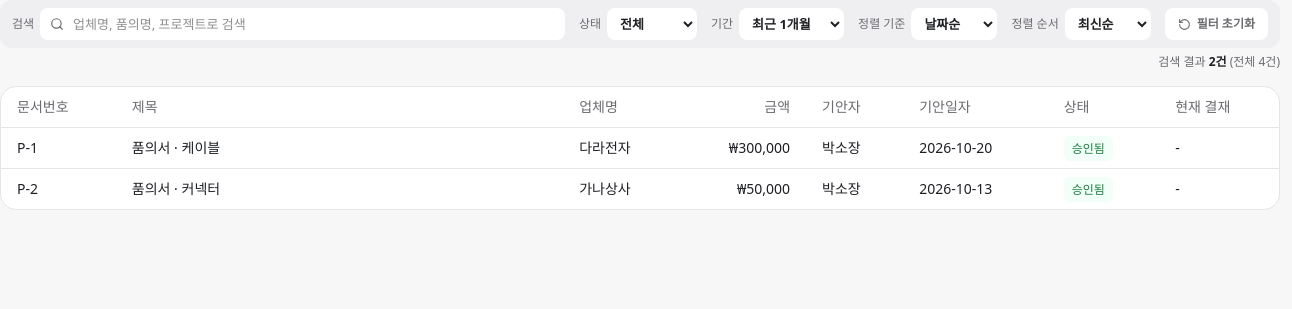
Scenario: 품의서 목록 검색·정렬 › 업체명 또는 품의명으로 검색하고, 맞는 게 없으면 안내한다
The width and height of the screenshot is (1292, 309).
Expected: the table is shown, [1,87,1279,209]
Select "최근 12개월" in the dropdown named "조회 기간" at (792, 24), box [739,8,844,40]
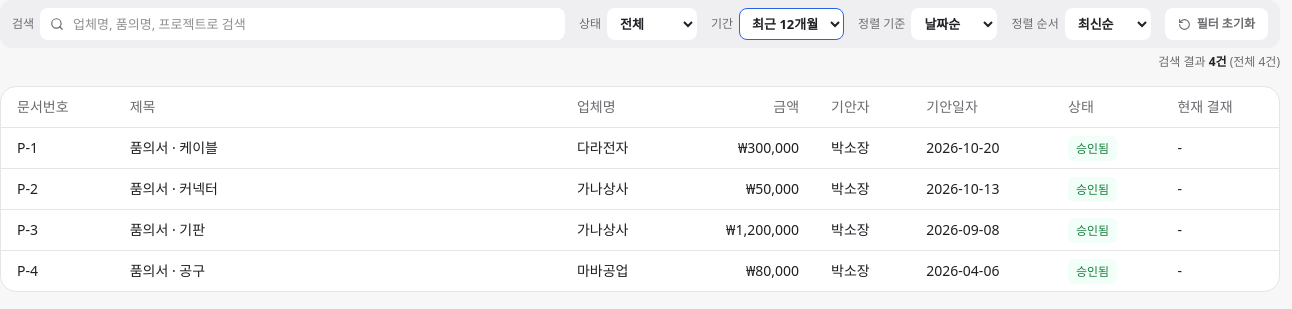
Type "가나" into the search field labelled "검색" at (302, 24), box [40,8,565,40]
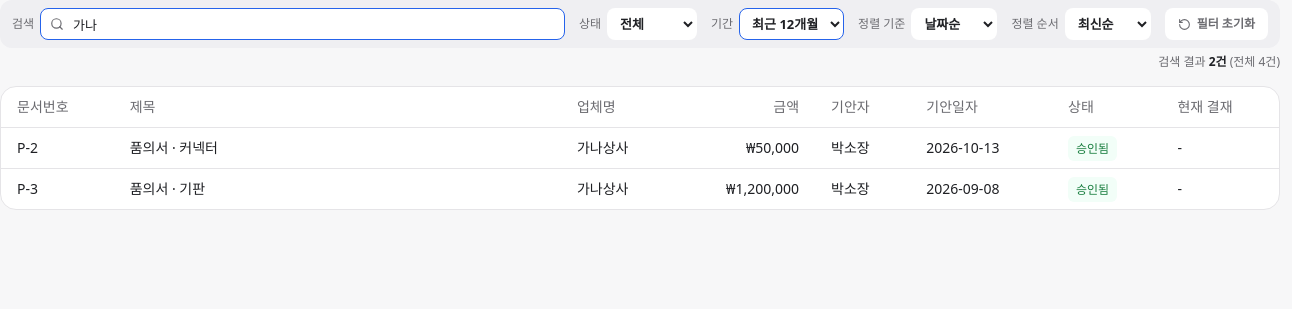
Replace the text in the search field labelled "검색" with "케이" at (302, 24), box [40,8,565,40]
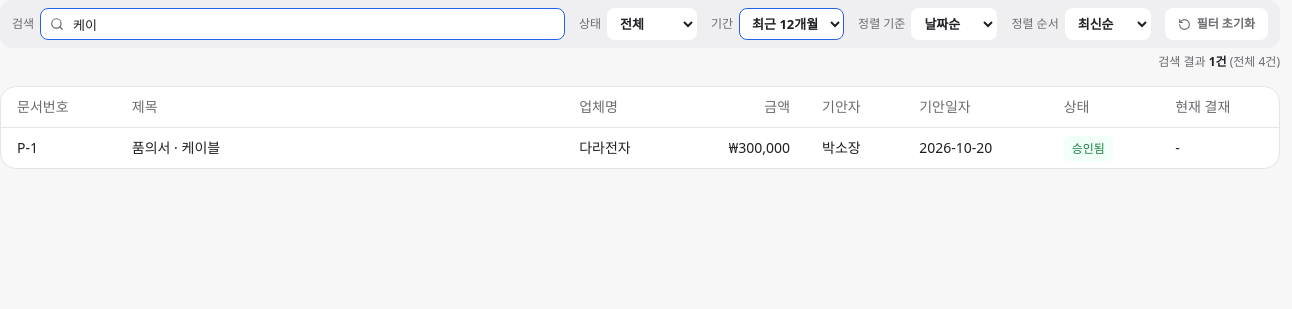
Replace the text in the search field labelled "검색" with "없는말" at (302, 24), box [40,8,565,40]
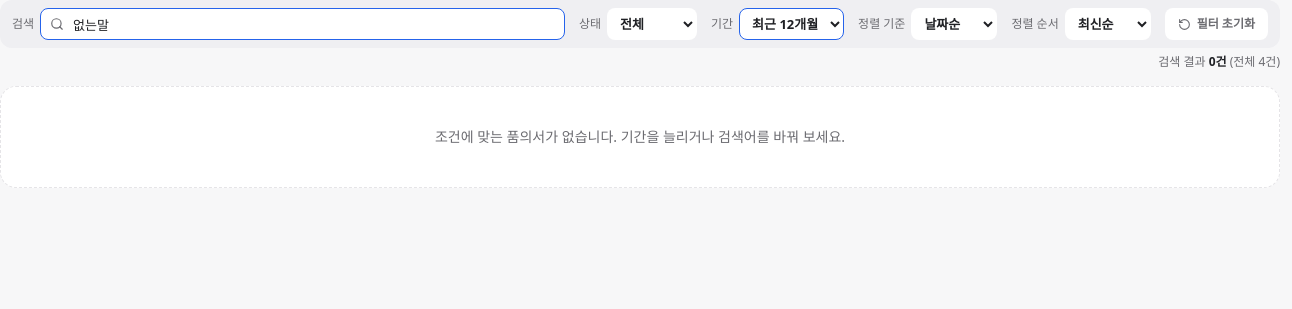
Result: the text "조건에 맞는 품의서가 없습니다. 기간을 늘리거나 검색어를 바꿔 보세요." is shown at [435,127,845,146]
